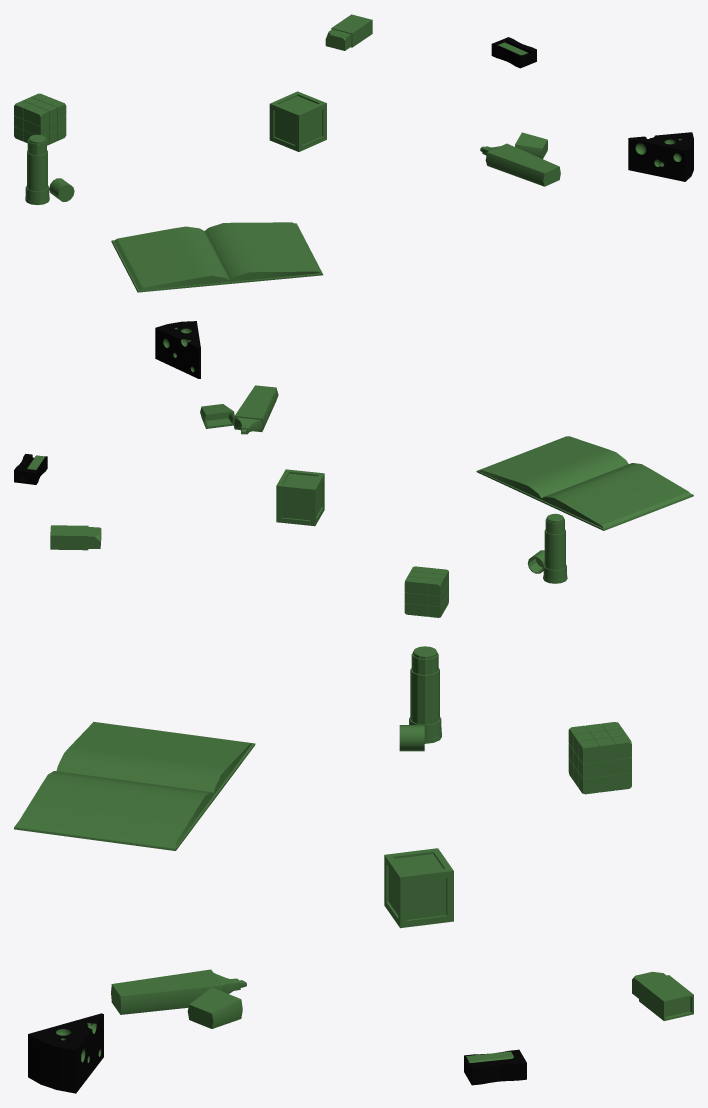
The model's file is SM_Props.fbx.
3 renders of one model, top to bottom at view 1: azimuth 30°, elevation 25°; view 2: azimuth 150°, elevation 25°; view 3: azimuth 270°, elevation 25°, orthographic. The views are drawn at different scales.
Visible parts, largest first — view 1: SM_Props; view 2: SM_Props; view 3: SM_Props.
Part boxes in pixels (left/top/right/bottom): SM_Props: left=14, top=14, right=693, bottom=292; SM_Props: left=14, top=321, right=693, bottom=617; SM_Props: left=14, top=646, right=693, bottom=1093.
Size of the model in its own units: 6617 by 5136 by 732.
